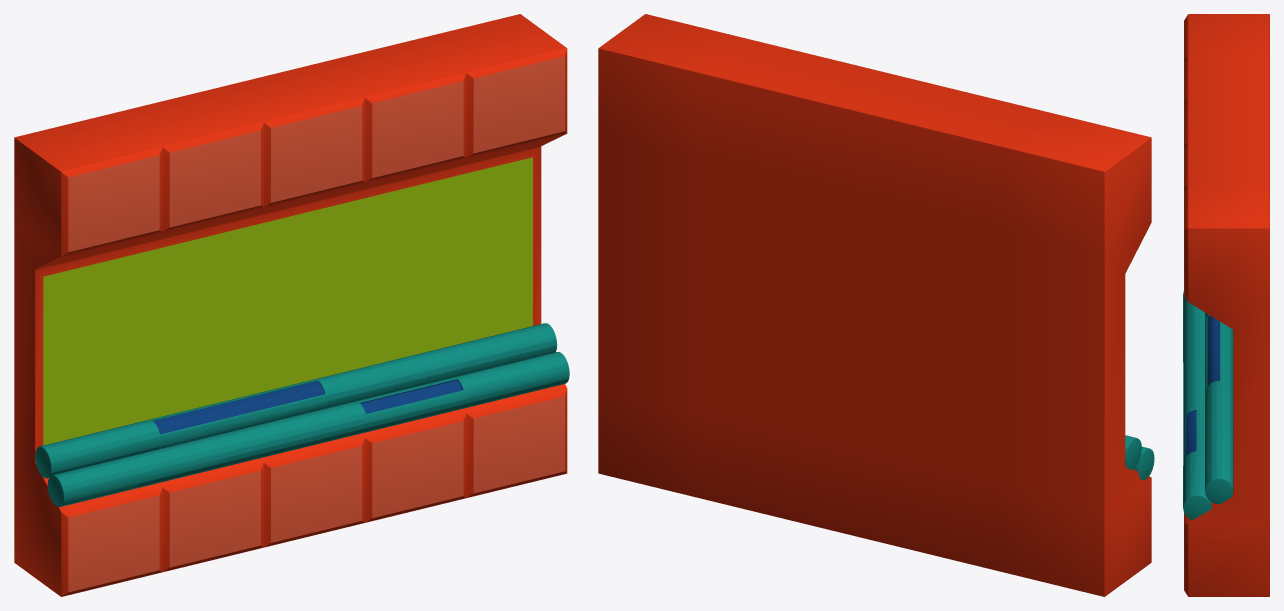
File: mur 3e salle.FBX
3 renders of one model, left to right at view 1: azimuth 30°, elevation 25°; view 2: azimuth 150°, elevation 25°; view 3: azimuth 270°, elevation 25°, orthographic. The views are drawn at different scales.
Visible parts, largest first — view 1: Mur 3e salle; view 2: Mur 3e salle; view 3: Mur 3e salle.
Part boxes in pixels (bbox=[...]): Mur 3e salle: bbox=[14, 14, 569, 596]; Mur 3e salle: bbox=[598, 14, 1154, 596]; Mur 3e salle: bbox=[1183, 14, 1269, 596].
Bounding box in the file's own units: 1240 × 995 × 212.
